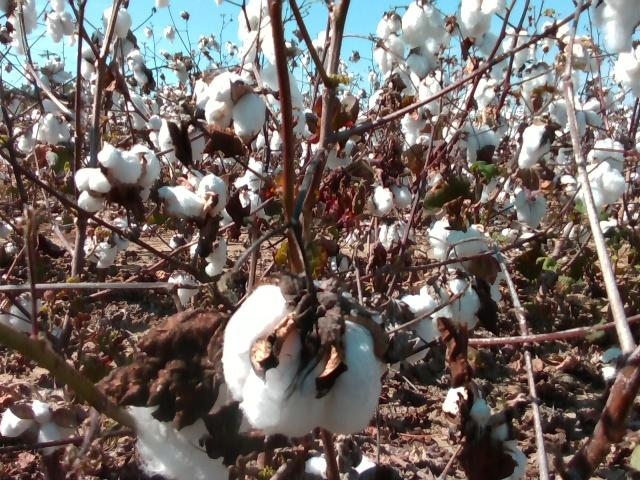cotton_ready: (222, 281, 385, 437), (128, 396, 229, 480), (442, 388, 527, 480), (236, 142, 322, 221), (75, 144, 161, 212), (0, 389, 74, 455), (380, 292, 437, 367), (237, 0, 303, 64), (419, 281, 501, 332), (204, 72, 266, 137), (260, 64, 308, 139), (155, 174, 227, 222), (429, 218, 492, 272), (590, 0, 640, 54), (158, 118, 211, 167), (404, 0, 452, 54), (303, 447, 378, 480), (576, 162, 626, 209), (389, 53, 443, 95), (548, 95, 603, 134), (455, 124, 499, 169), (478, 31, 530, 69), (453, 0, 507, 36), (518, 124, 554, 171), (522, 63, 555, 113), (190, 235, 229, 277), (9, 0, 36, 57), (0, 299, 44, 333), (311, 138, 357, 170), (510, 188, 547, 227), (565, 34, 602, 73), (418, 69, 449, 115), (32, 114, 79, 144), (613, 46, 640, 98), (366, 185, 412, 214), (587, 138, 625, 173), (375, 34, 404, 74), (379, 220, 415, 252), (402, 110, 430, 149), (168, 273, 200, 307), (84, 238, 118, 270), (102, 9, 133, 42), (100, 220, 133, 250), (47, 12, 75, 43)
